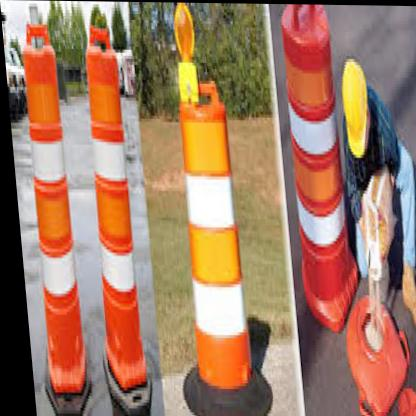obstacle: (272, 12, 356, 327), (76, 46, 142, 387), (171, 92, 246, 389)
